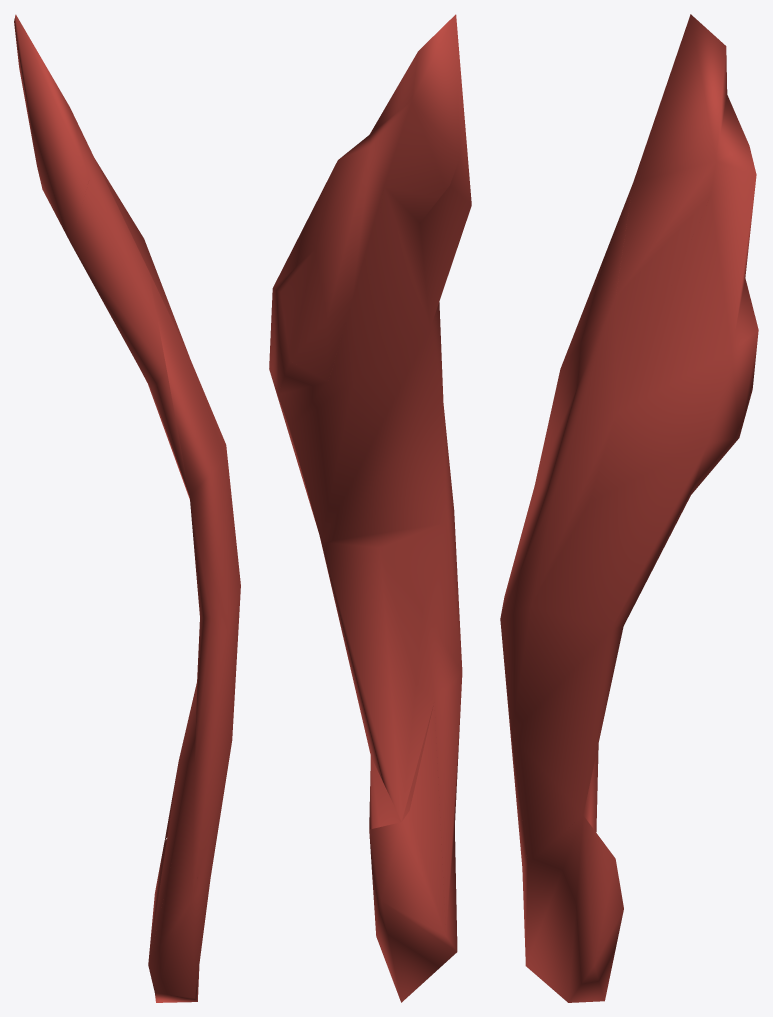
File: musculos-levator-nasolabialis-l.glb
The picture shows the model from 3 angles, left to right: view 1: azimuth 30°, elevation 25°; view 2: azimuth 150°, elevation 25°; view 3: azimuth 270°, elevation 25°; orthographic projection. The views are drawn at different scales.
Parts seen in each view (by area): view 1: Levator nasolabialis.l; view 2: Levator nasolabialis.l; view 3: Levator nasolabialis.l.
Boxes of the visible parts, left/top/right/bottom form: Levator nasolabialis.l: left=14, top=14, right=240, bottom=1002; Levator nasolabialis.l: left=269, top=14, right=471, bottom=1002; Levator nasolabialis.l: left=500, top=14, right=758, bottom=1002.
Size of the model in its own units: 0.00525 by 0.0291 by 0.00723.
